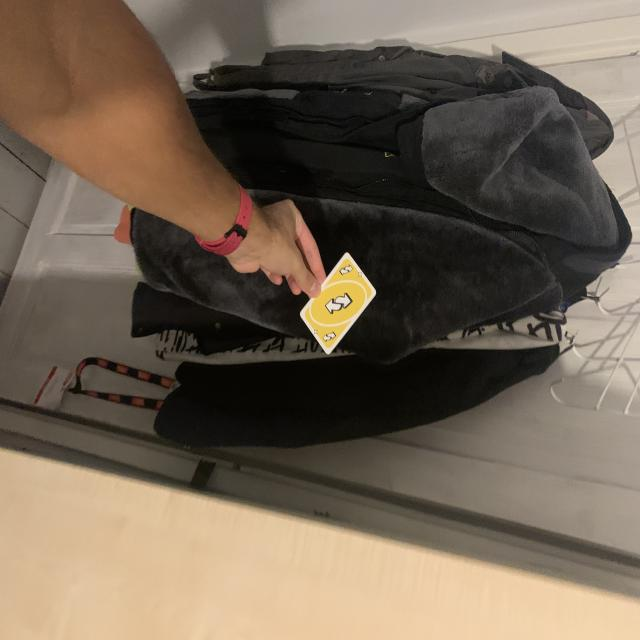lyellowrevers-20: (339, 263, 353, 277)
